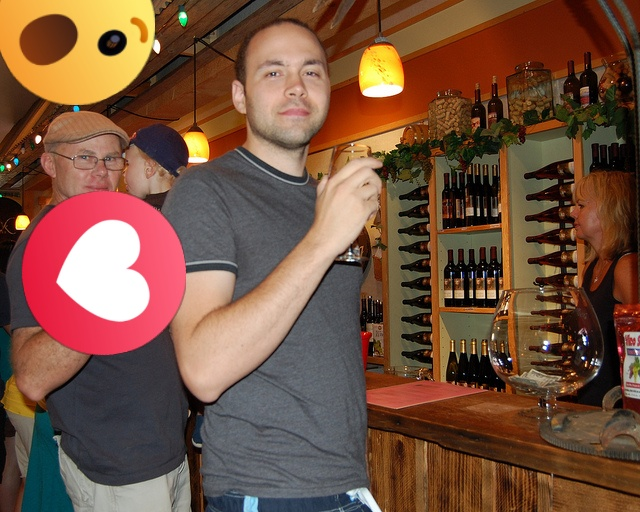love: (22, 191, 186, 355)
wow: (0, 0, 155, 105)
